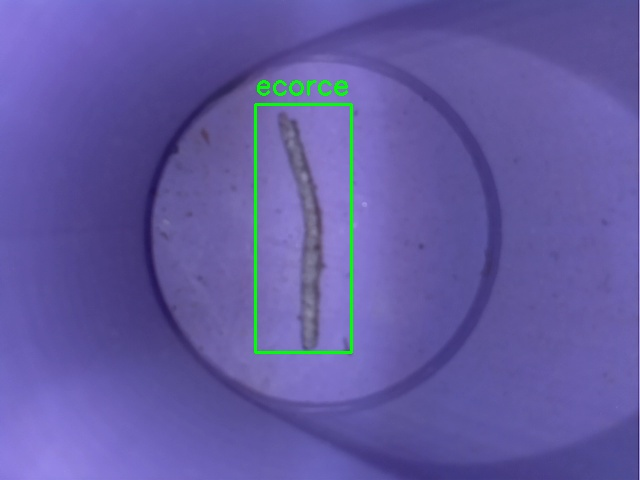ecorce: (255, 104, 351, 352)
